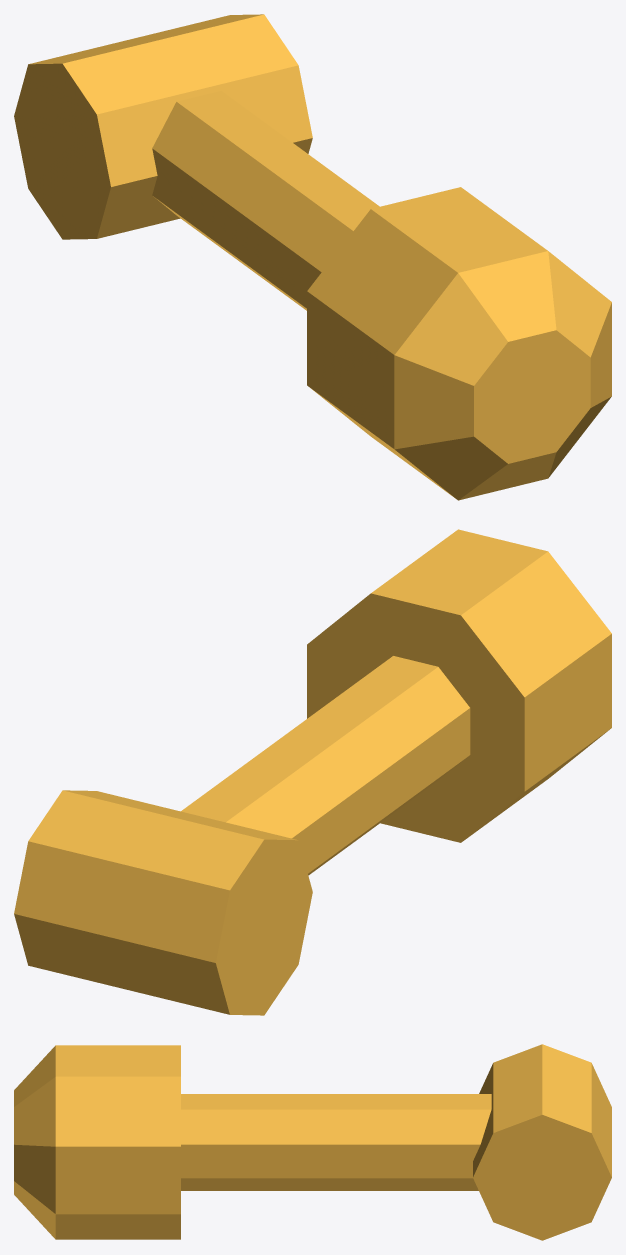
Rendered from zoom_lever_handle.glb.
The picture shows the model from 3 angles, top to bottom: view 1: azimuth 30°, elevation 25°; view 2: azimuth 150°, elevation 25°; view 3: azimuth 270°, elevation 25°; orthographic projection. The views are drawn at different scales.
Visible parts, largest first — view 1: ZoomLeverHandle; view 2: ZoomLeverHandle; view 3: ZoomLeverHandle.
Part boxes in pixels (box(x1,y1,x2,y2)): ZoomLeverHandle: box(14, 14, 611, 500); ZoomLeverHandle: box(14, 529, 611, 1015); ZoomLeverHandle: box(14, 1044, 611, 1240).
Size of the model in its own units: 0.0129 by 0.0129 by 0.043.
